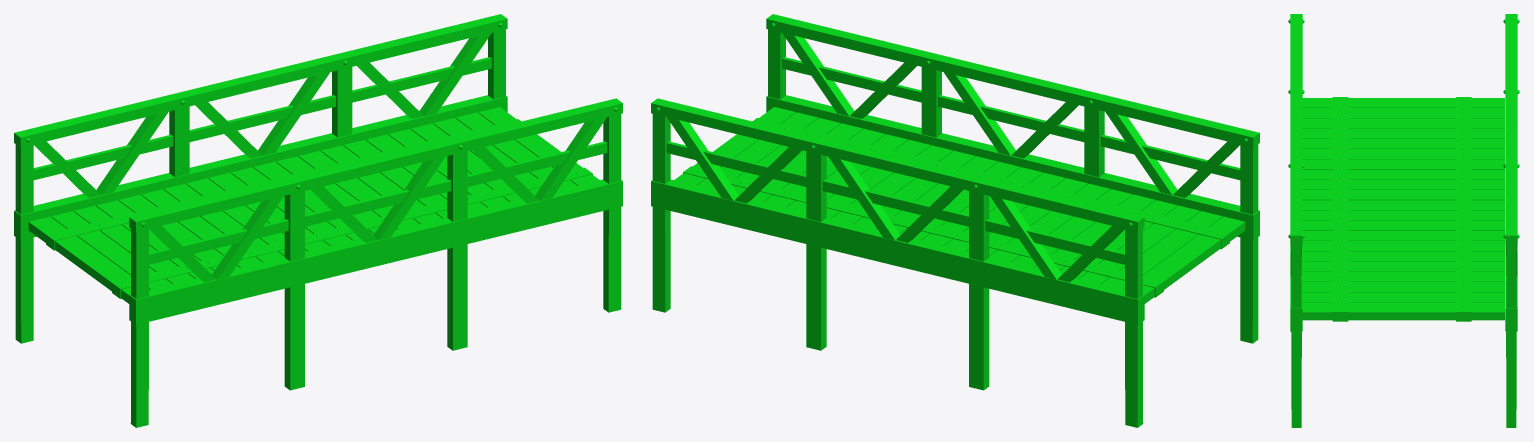
File: Bridge.fbx
3 views of the same model, side by side, from view 1: azimuth 30°, elevation 25°; view 2: azimuth 150°, elevation 25°; view 3: azimuth 270°, elevation 25° (orthographic). The views are drawn at different scales.
Parts seen in each view (by area): view 1: Bridge.001; view 2: Bridge.001; view 3: Bridge.001.
Part boxes in pixels (x1=…): Bridge.001: x1=14, y1=14, x2=622, y2=427; Bridge.001: x1=651, y1=14, x2=1259, y2=427; Bridge.001: x1=1288, y1=14, x2=1519, y2=427.
Bounding box in the file's own units: 991 × 402 × 437.
